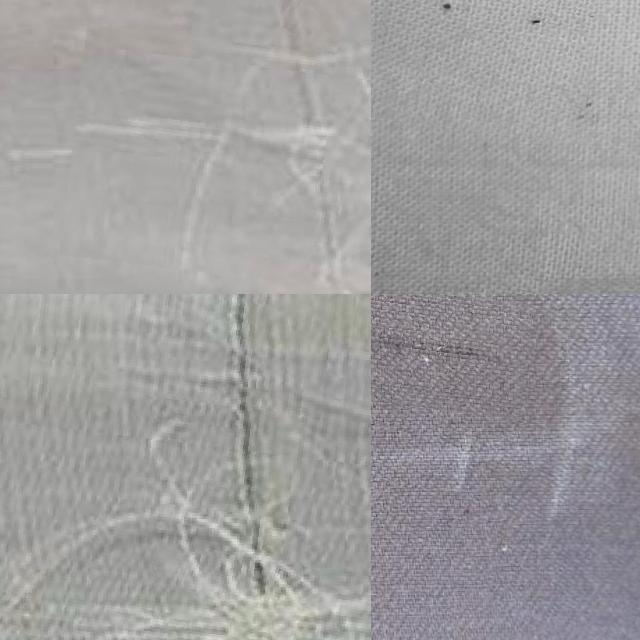Hole: (374, 0, 596, 137)
Thread_other: (0, 294, 371, 640), (67, 0, 371, 291), (371, 294, 530, 405)
